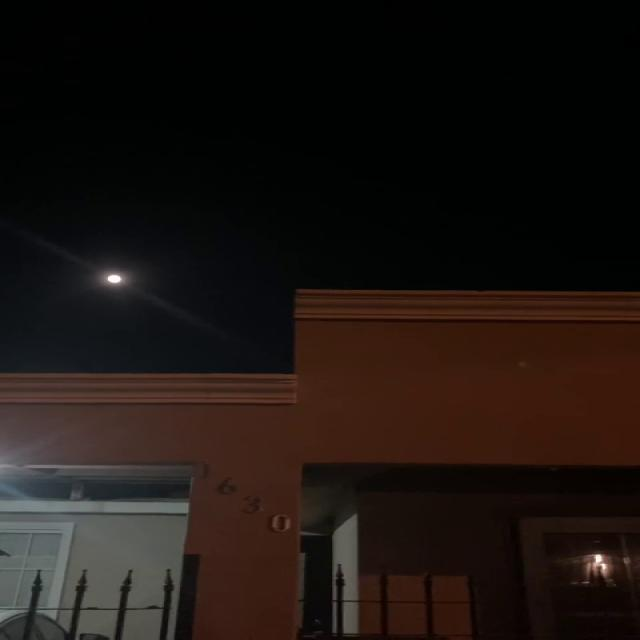moon: (100, 268, 139, 295)
